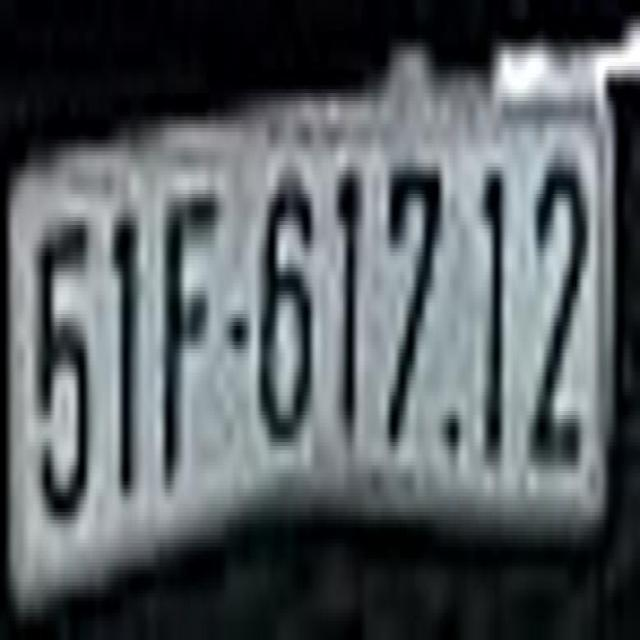1: (477, 151, 508, 485), (109, 194, 137, 547), (332, 124, 360, 462)
2: (530, 136, 591, 500)
5: (36, 205, 91, 536)
6: (256, 144, 314, 478)
7: (378, 105, 442, 481)
F: (160, 163, 223, 497)
